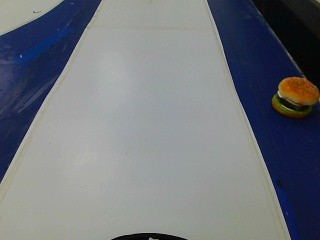burger: (271, 74, 318, 121)
